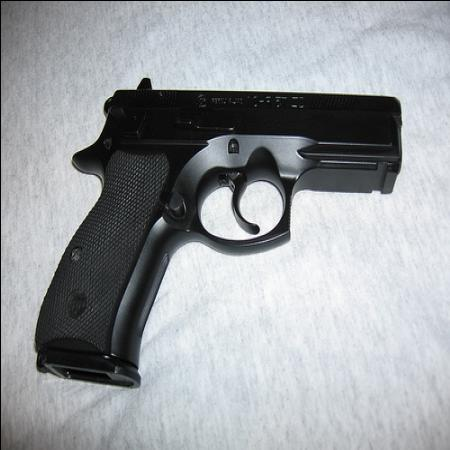Pistol: (35, 74, 402, 374)
